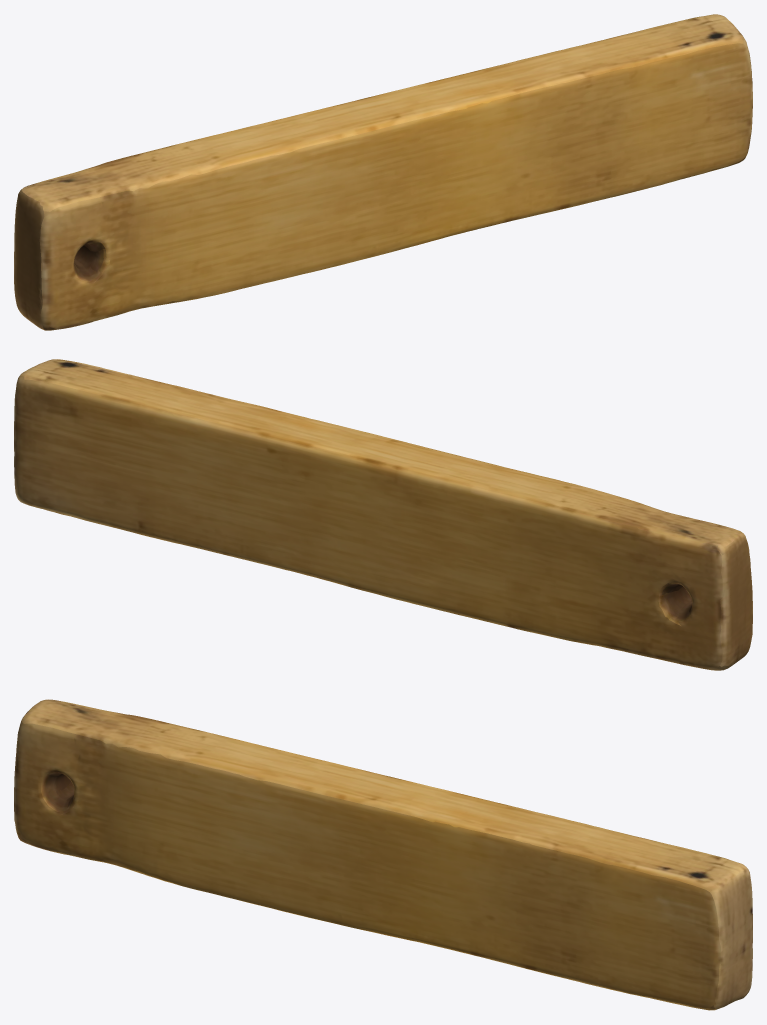
The model's file is S0-13_bamboo_tally_A.glb.
3 views of the same model, one above another, from view 1: azimuth 30°, elevation 25°; view 2: azimuth 150°, elevation 25°; view 3: azimuth 330°, elevation 25° (orthographic).
Visible parts, largest first — view 1: geometry_0; view 2: geometry_0; view 3: geometry_0.
Boxes of the visible parts, <box> form: geometry_0: <box>14,14,752,330</box>; geometry_0: <box>14,359,752,670</box>; geometry_0: <box>14,699,752,1010</box>.
Size of the model in its own units: 0.3 by 0.0538 by 0.0254.
1 material, 1 textured.
